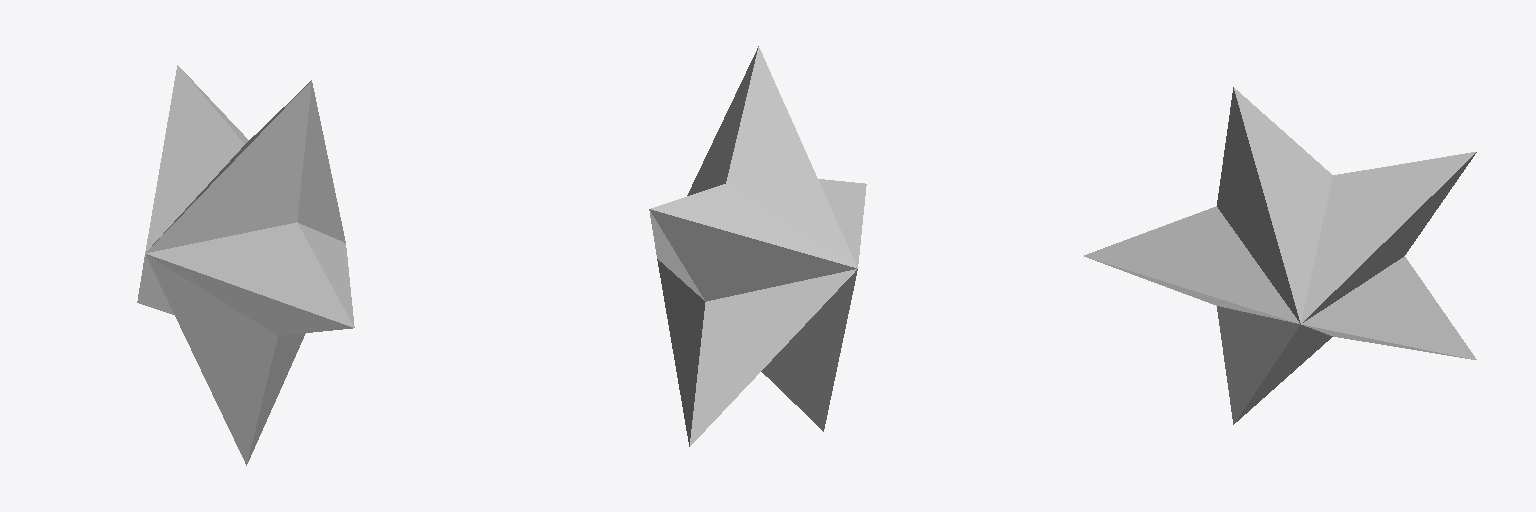
The picture shows the model from 3 angles: view 1: azimuth 30°, elevation 25°; view 2: azimuth 150°, elevation 25°; view 3: azimuth 270°, elevation 25°; orthographic projection.
Visible parts, largest first — view 1: Star_01; view 2: Star_01; view 3: Star_01.
Boxes of the visible parts, <box> form: Star_01: <box>137,65,354,465</box>; Star_01: <box>649,46,866,446</box>; Star_01: <box>1084,87,1476,424</box>.
Size of the model in its own units: 0.3637 by 0.6401 by 0.6191.